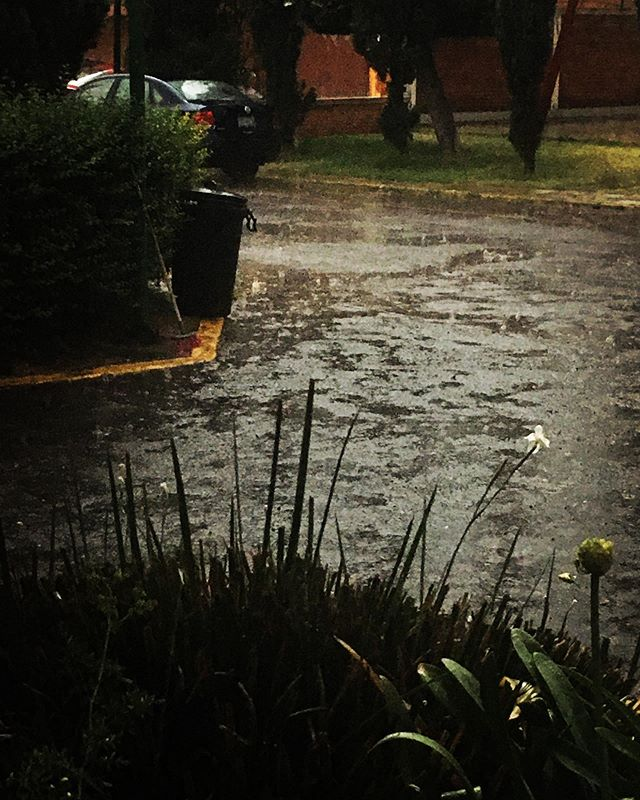street: (224, 120, 640, 650)
vegetation: (1, 581, 640, 800), (1, 102, 192, 355)
